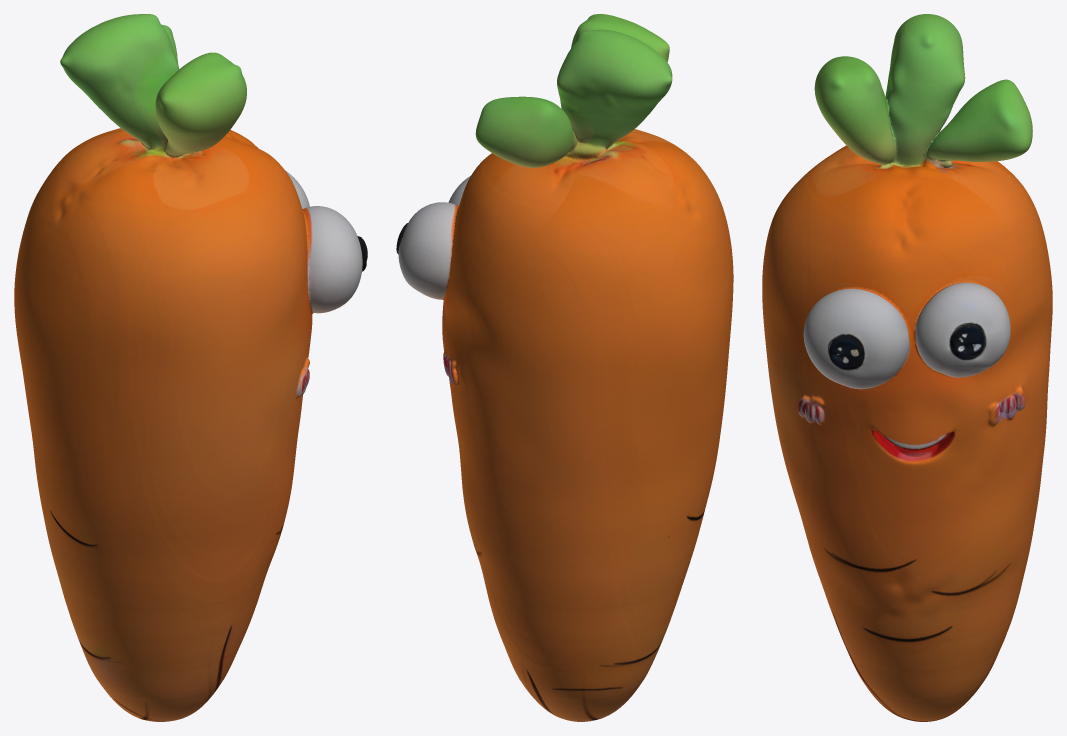
Rendered from tripo_carrot.glb.
3 views of the same model, side by side, from view 1: azimuth 30°, elevation 25°; view 2: azimuth 150°, elevation 25°; view 3: azimuth 270°, elevation 25° (orthographic). The views are drawn at different scales.
Visible parts, largest first — view 1: tripo_node_a2155910-d4b9-4384-ac30-d537119d9c61; view 2: tripo_node_a2155910-d4b9-4384-ac30-d537119d9c61; view 3: tripo_node_a2155910-d4b9-4384-ac30-d537119d9c61.
Boxes of the visible parts, x1,y1,x2,y2 form: tripo_node_a2155910-d4b9-4384-ac30-d537119d9c61: [14, 14, 367, 721]; tripo_node_a2155910-d4b9-4384-ac30-d537119d9c61: [396, 14, 733, 721]; tripo_node_a2155910-d4b9-4384-ac30-d537119d9c61: [762, 14, 1052, 721].
Bounding box in the file's own units: 0.4408 × 1 × 0.388.
Materials: 1 (1 with a texture image).
